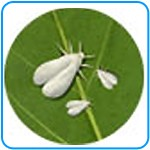whitefly: (32, 42, 94, 99), (95, 69, 118, 89), (65, 99, 91, 116)
